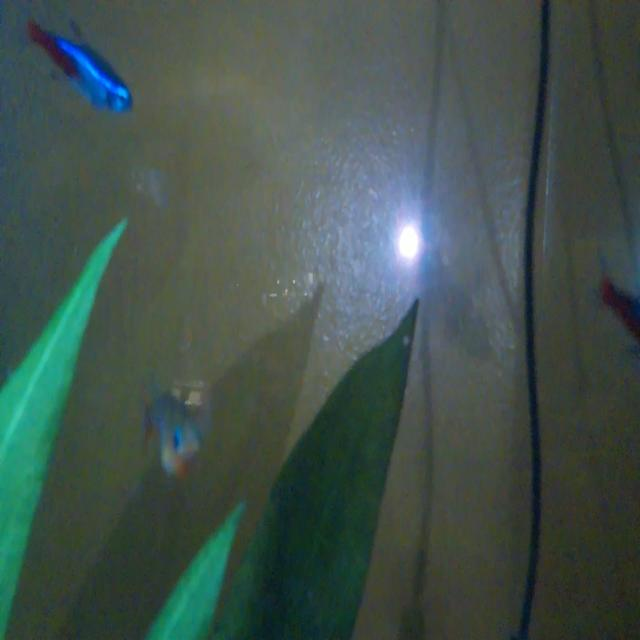fish: (23, 18, 147, 129), (136, 376, 208, 487)
